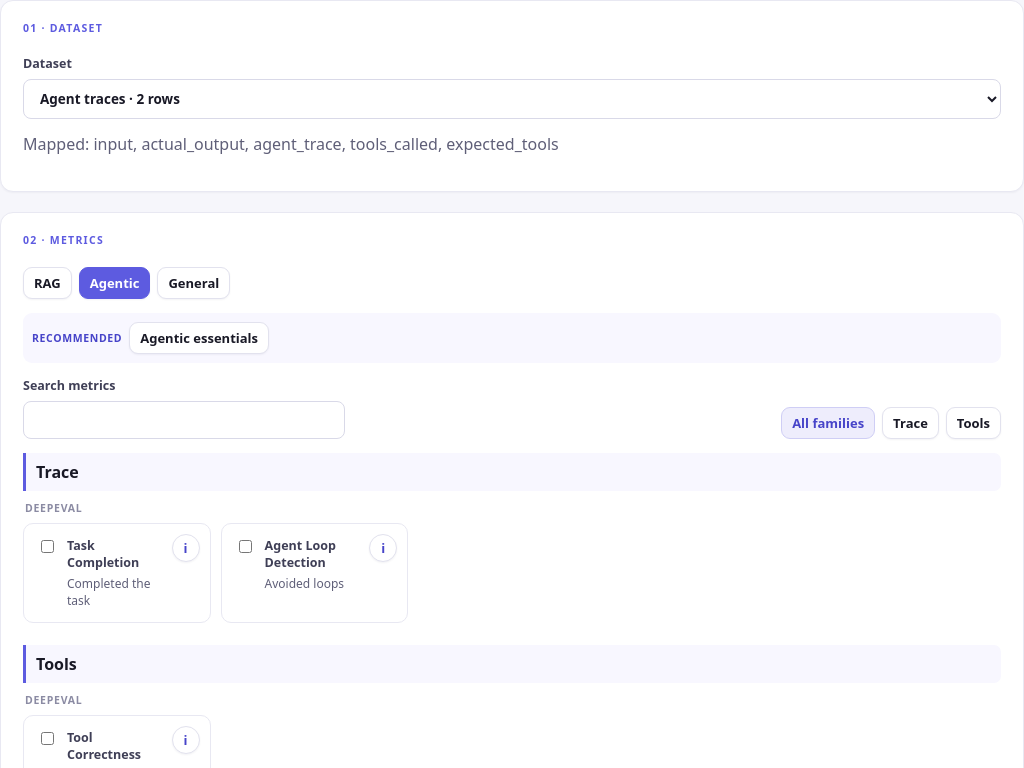
RunWizard › applies the Agentic preset with exactly task completion and loop detection
Click the button "Agentic essentials" at x=199, y=338, box x1=129 y1=322 x2=269 y2=354
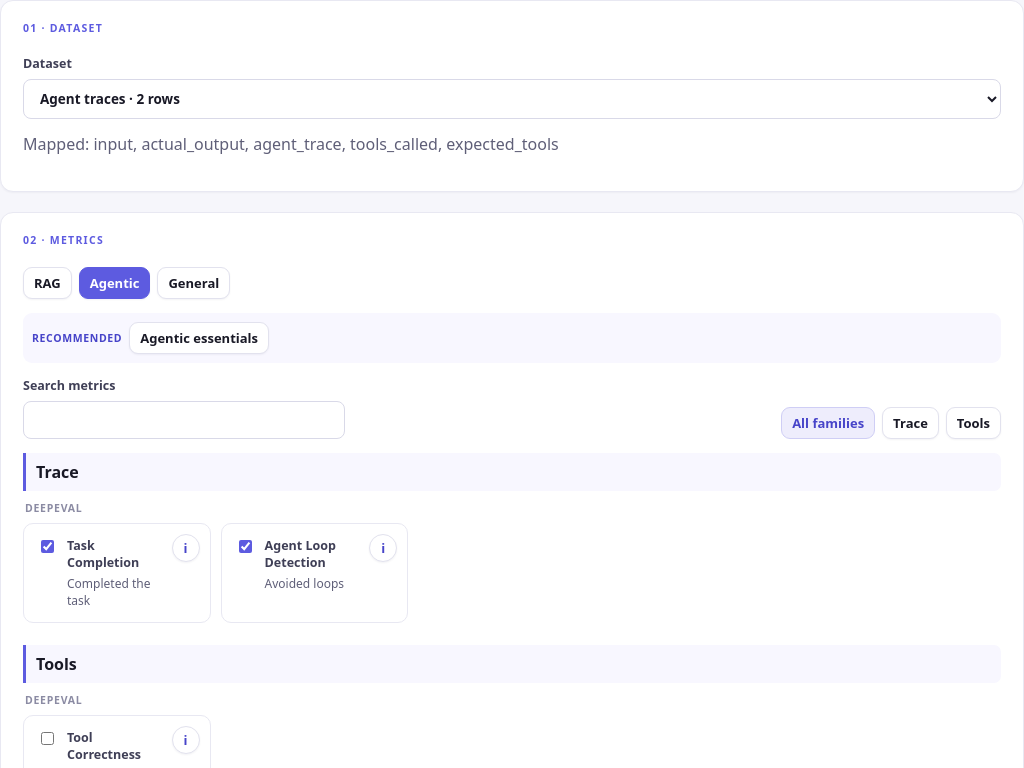
Expected: the checkbox labelled "Tool Correctness" is not checked, x1=41 y1=732 x2=54 y2=745
Now the checkbox labelled "Task Completion" is checked, box x1=41 y1=540 x2=54 y2=553
Now the checkbox labelled "Agent Loop Detection" is checked, box x1=239 y1=540 x2=252 y2=553
